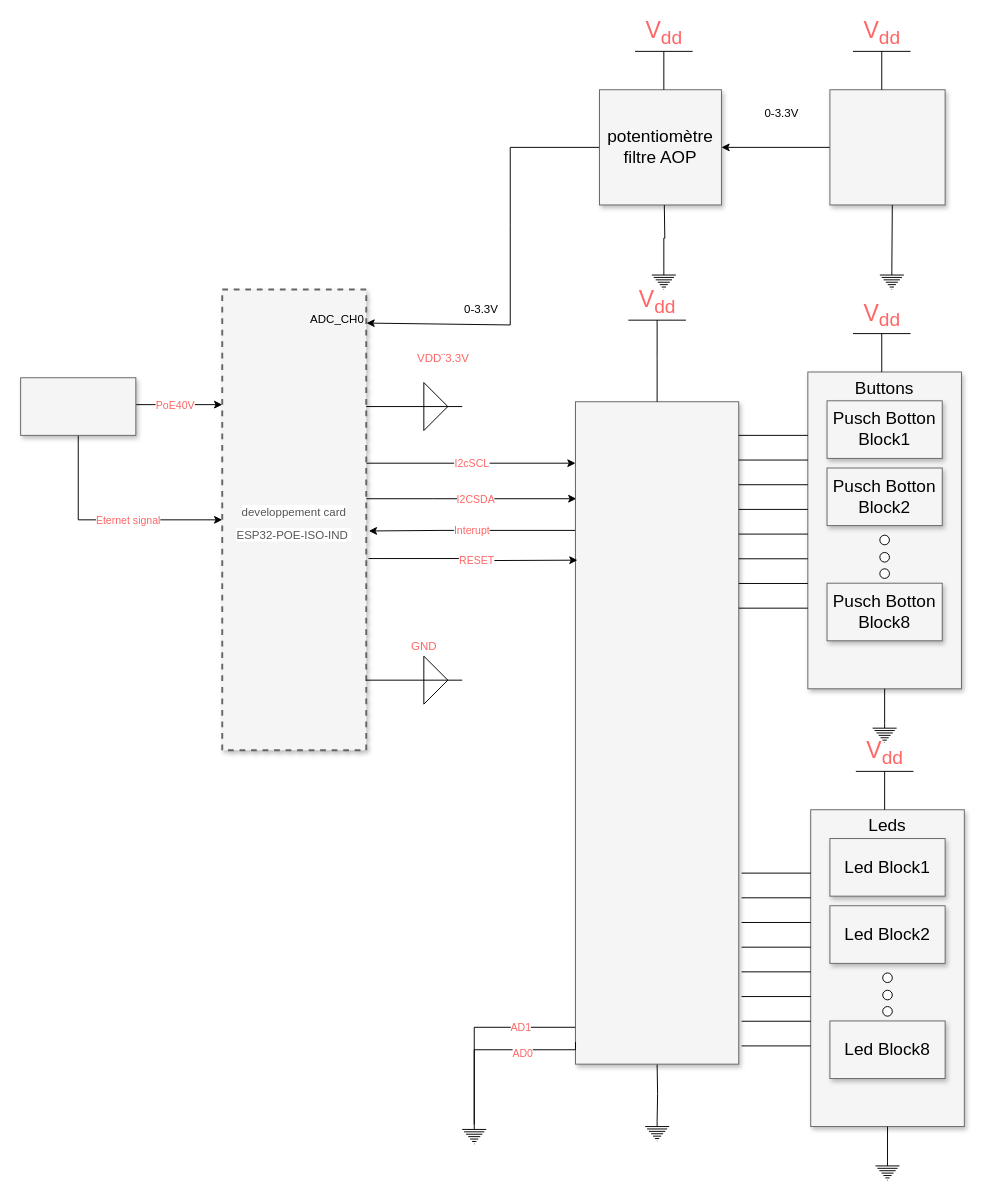
Some shapes in this 987 by 1197 pixel diagram are drawn without their labels. The shapes that lost their labels are listed below. From the top down, each one's centre as x and y in pixels, then its label:
At pixel 888 148: "potentiomètre".
At pixel 79 407: "Ethernet PoE".
At pixel 657 734: "GPIO Extend PCA9673".
